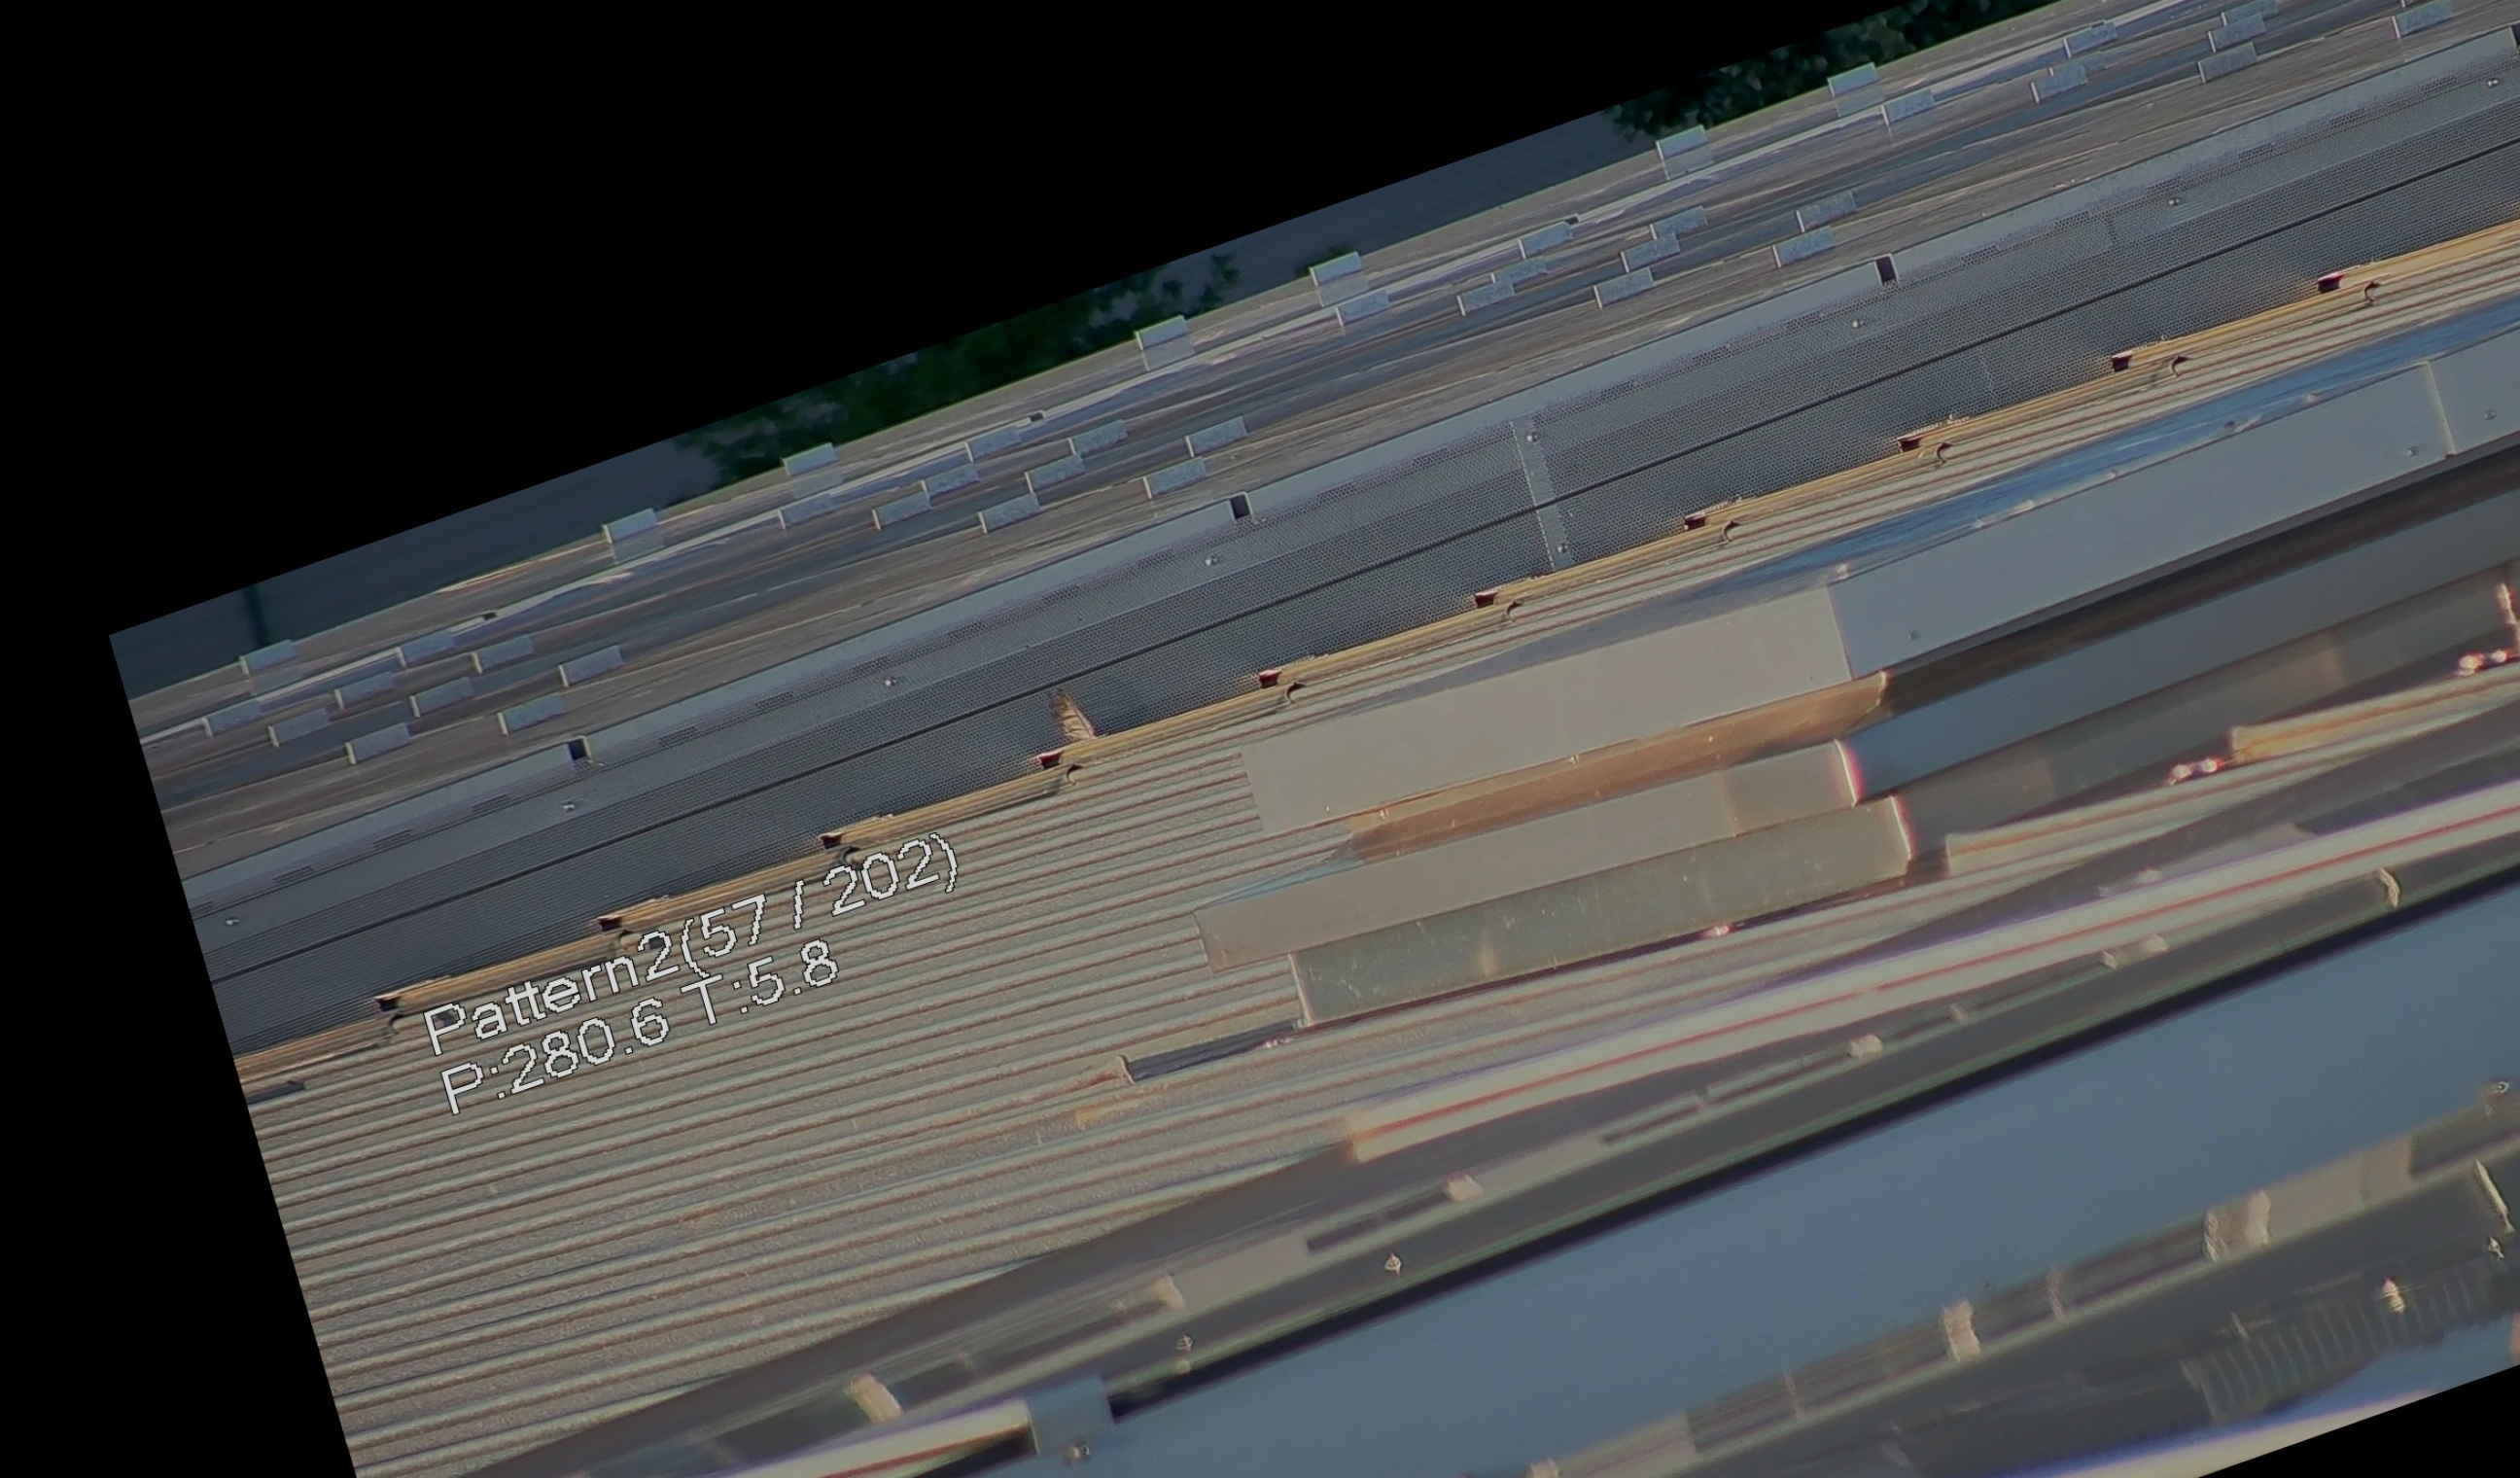Other: (1016, 665, 1103, 771)
